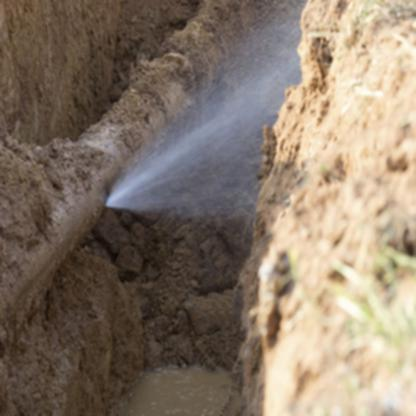burst: (85, 161, 140, 232)
